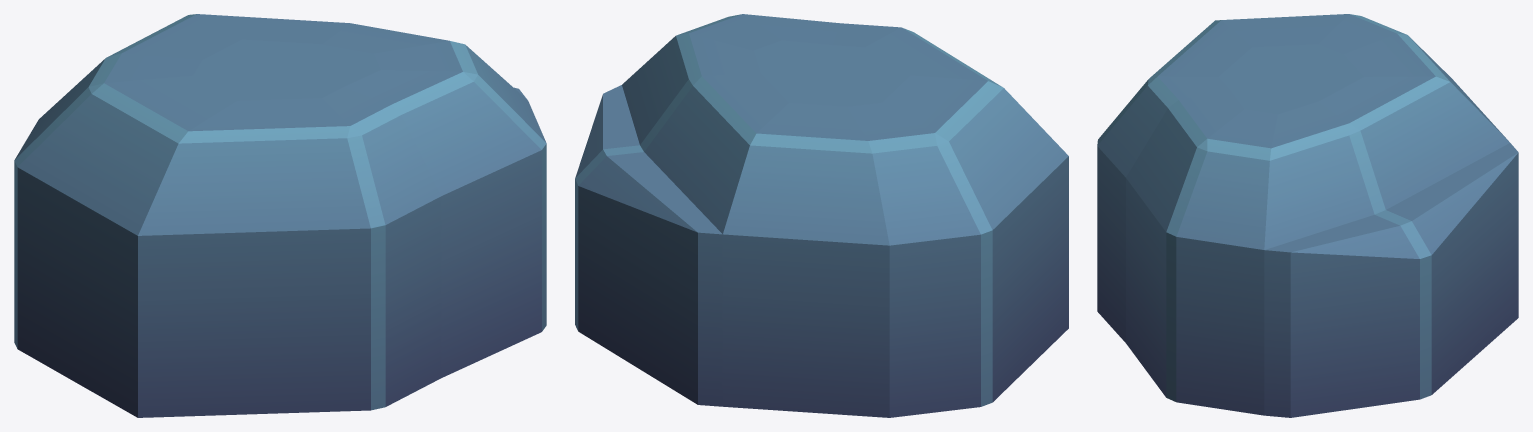
File: Rock-3-9.fbx
The picture shows the model from 3 angles, left to right: view 1: azimuth 30°, elevation 25°; view 2: azimuth 150°, elevation 25°; view 3: azimuth 270°, elevation 25°; orthographic projection. The views are drawn at different scales.
Parts seen in each view (by area): view 1: Rock-3-9; view 2: Rock-3-9; view 3: Rock-3-9.
Part boxes in pixels (box(x1,y1,x2,y2)): Rock-3-9: box(14, 14, 546, 417); Rock-3-9: box(575, 14, 1068, 417); Rock-3-9: box(1097, 14, 1518, 417).
Size of the model in its own units: 341 by 186 by 300.
